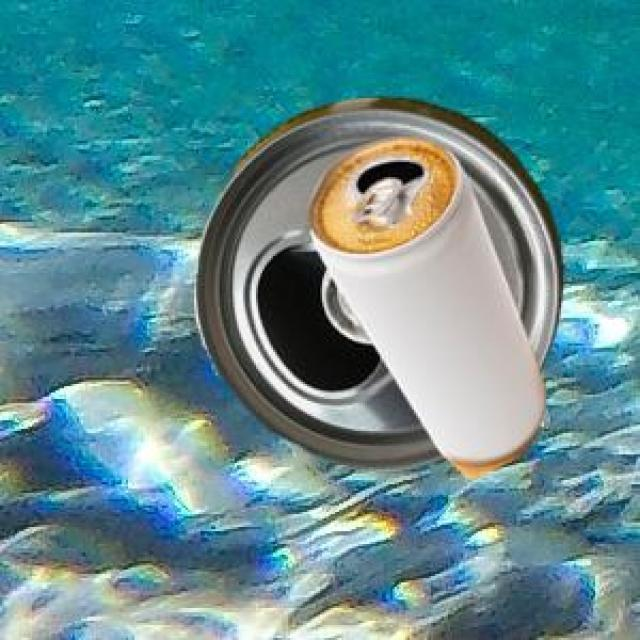Can: (191, 95, 560, 468), (306, 133, 543, 475)
